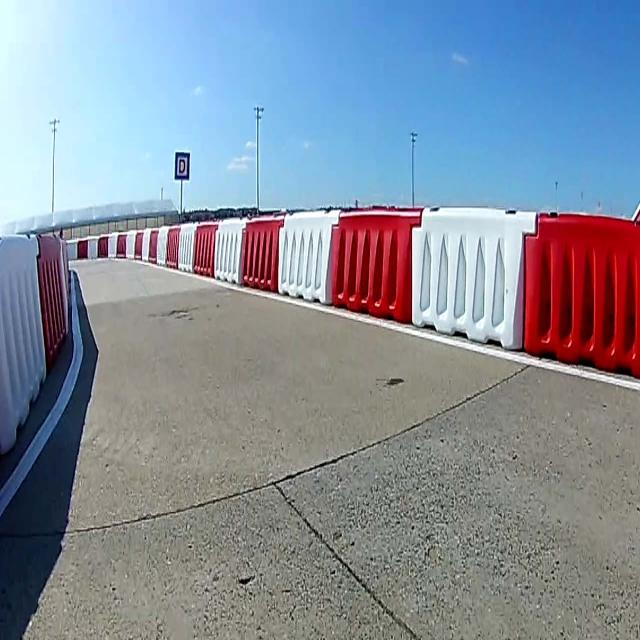durak: (174, 151, 190, 181)
